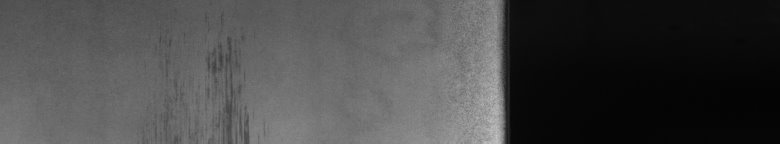ka: (206, 37, 252, 136)
